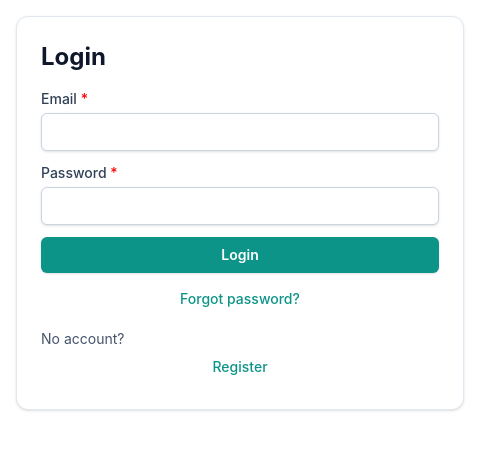
Test: LoginPage › renders the rate-limit inline countdown when /login returns 429 + Retry-After
Type "fixture@example.test" into the field labelled "Email *" at (240, 132), box [41,113,439,151]
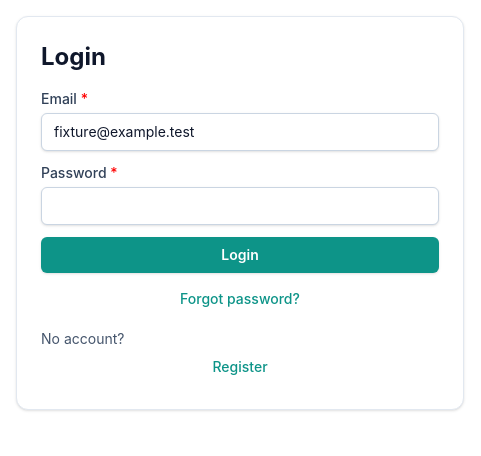
Type "SecurePass123!" into the password field labelled "Password *" at (240, 206), box [41,187,439,225]
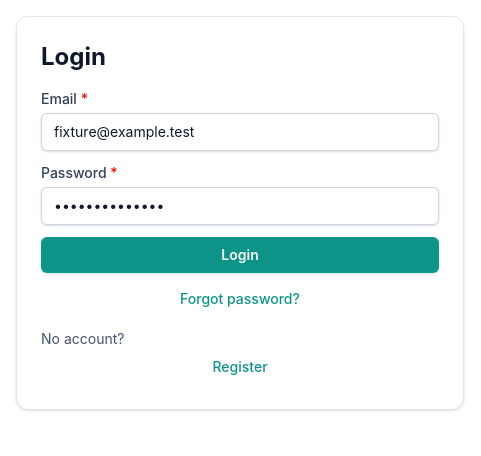
Click the button "Login" at (240, 255), box [41,237,439,273]
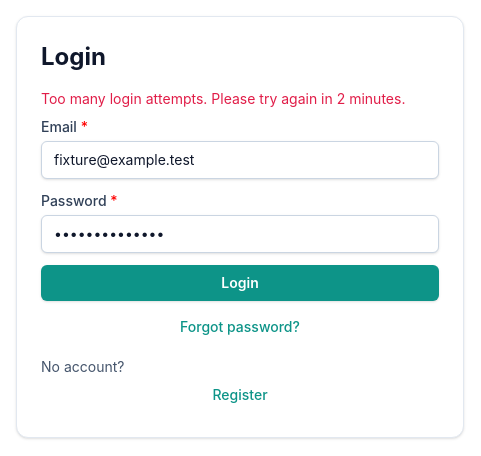
Expected: the message with test id "auth-rate-limit" shows "Too many login attempts", [41,89,439,109]
Expected: the message with test id "auth-rate-limit" shows "in 2 minutes", [321,90,401,107]
